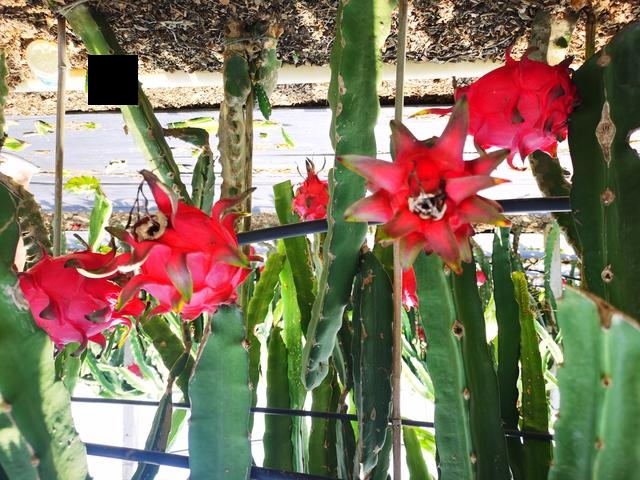pitaya: (345, 130, 504, 264), (448, 61, 575, 157), (137, 212, 244, 321), (21, 256, 146, 349), (292, 172, 330, 223), (390, 268, 429, 314)
